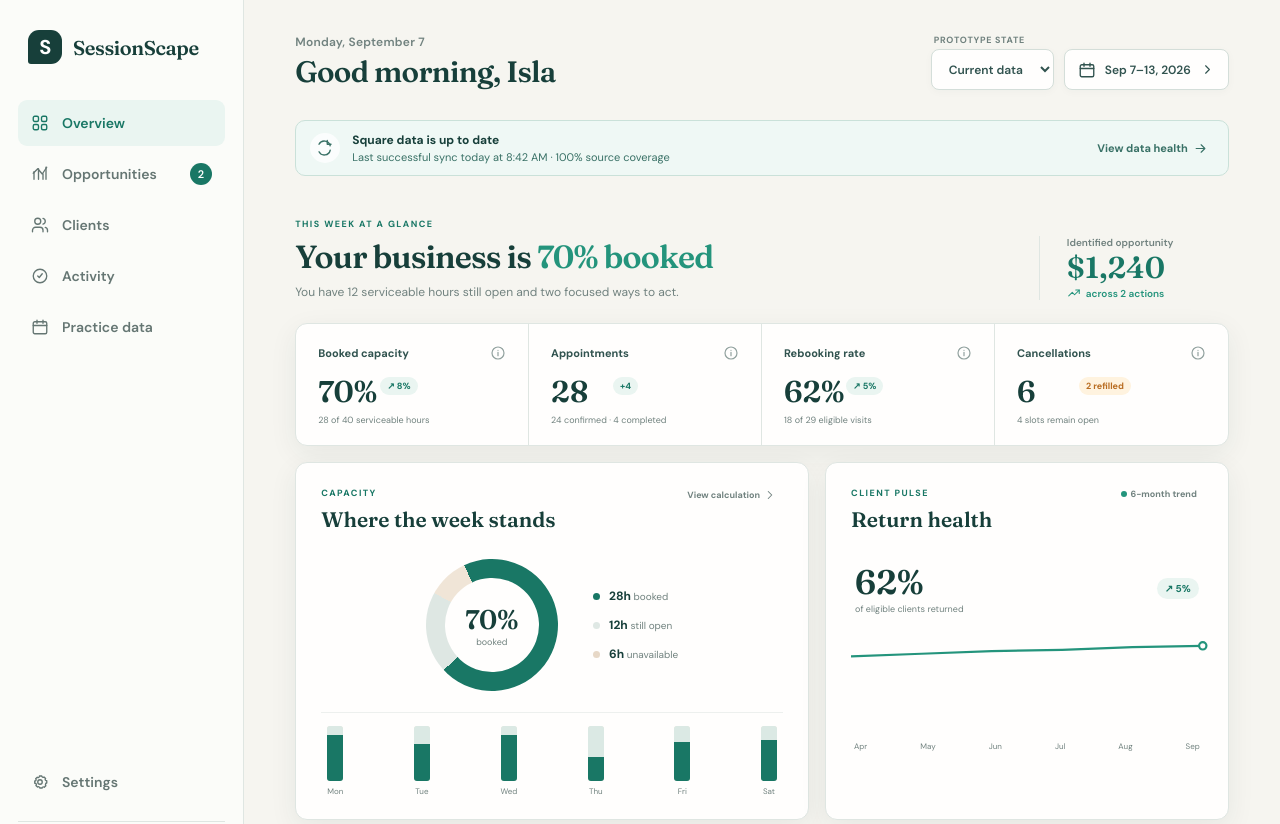
Test case: copies sample records into a separately labelled editable workspace
Click the link "Practice data": coordinates (92, 327) [31, 318, 153, 336]
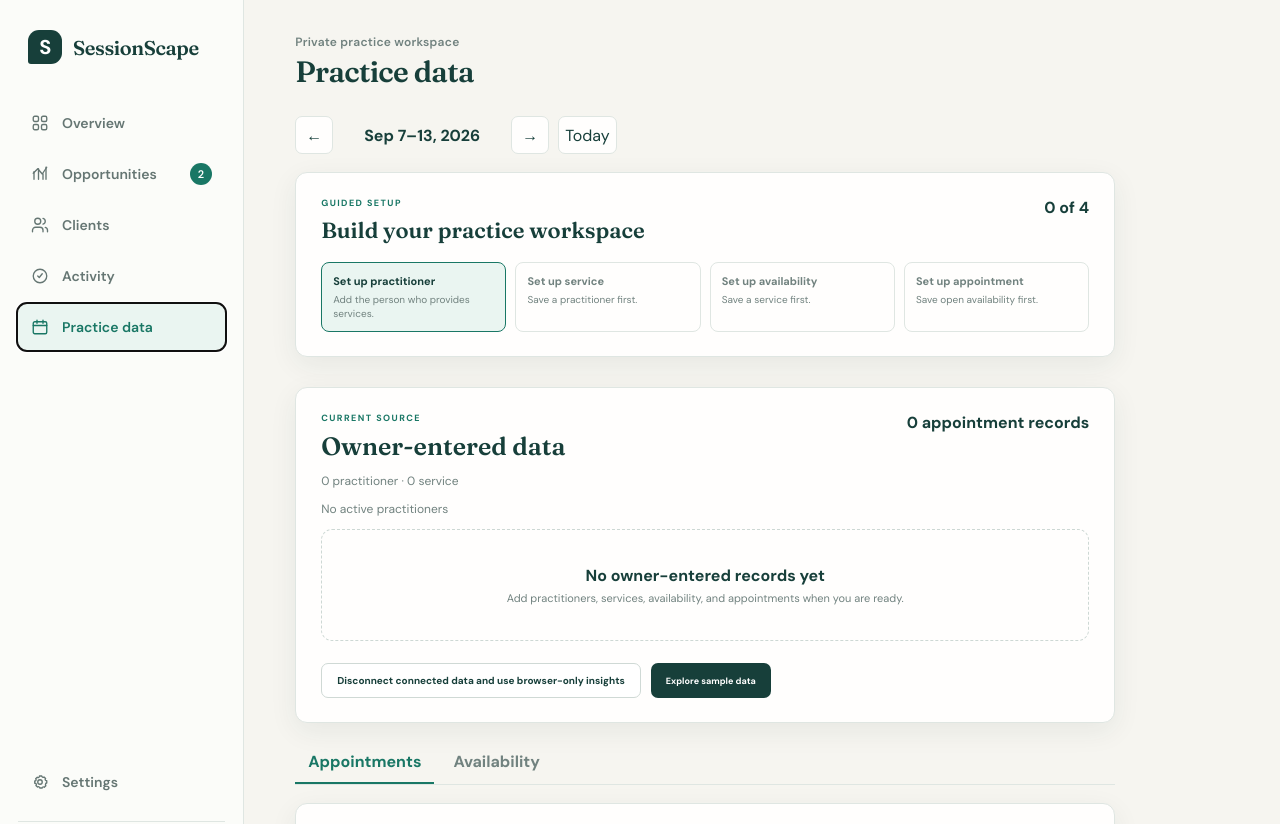
Click the button "Explore sample data": coordinates (711, 680) [651, 663, 771, 698]
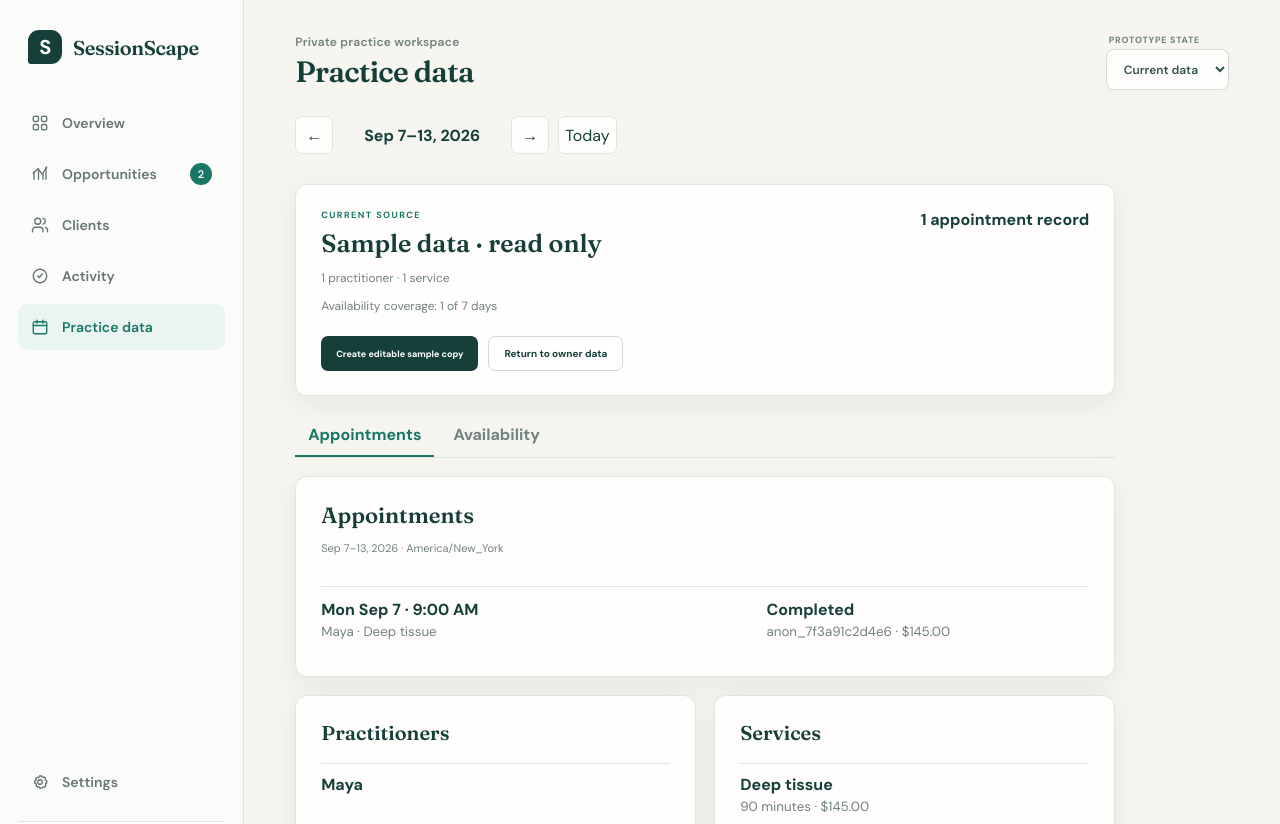
Click the button "Create editable sample copy": coordinates (400, 354) [321, 336, 478, 371]
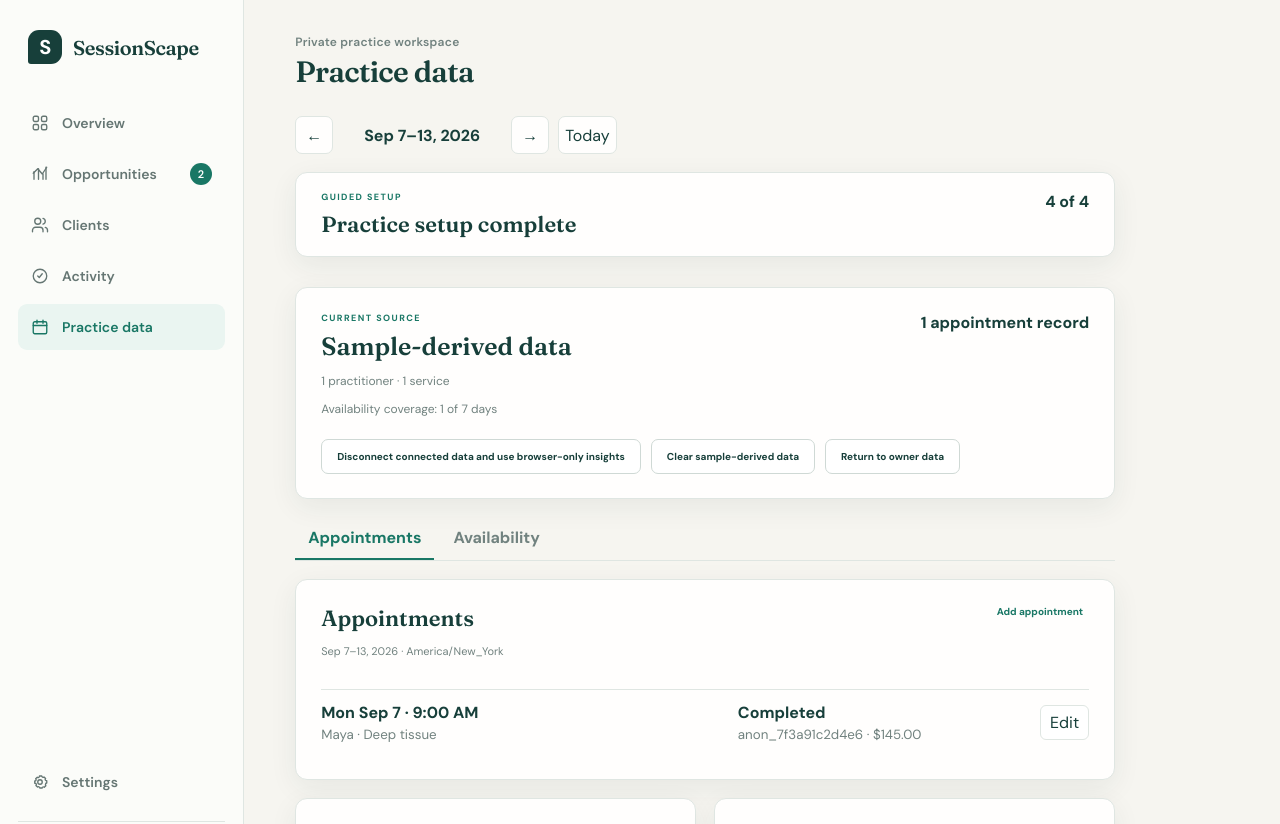
Check: the text "1 appointment record" is shown, box [921, 312, 1089, 333]
Check: the heading "Sample-derived data" is shown, box [321, 331, 572, 361]
Click the button "Return to owner data": coordinates (893, 456) [825, 439, 960, 474]
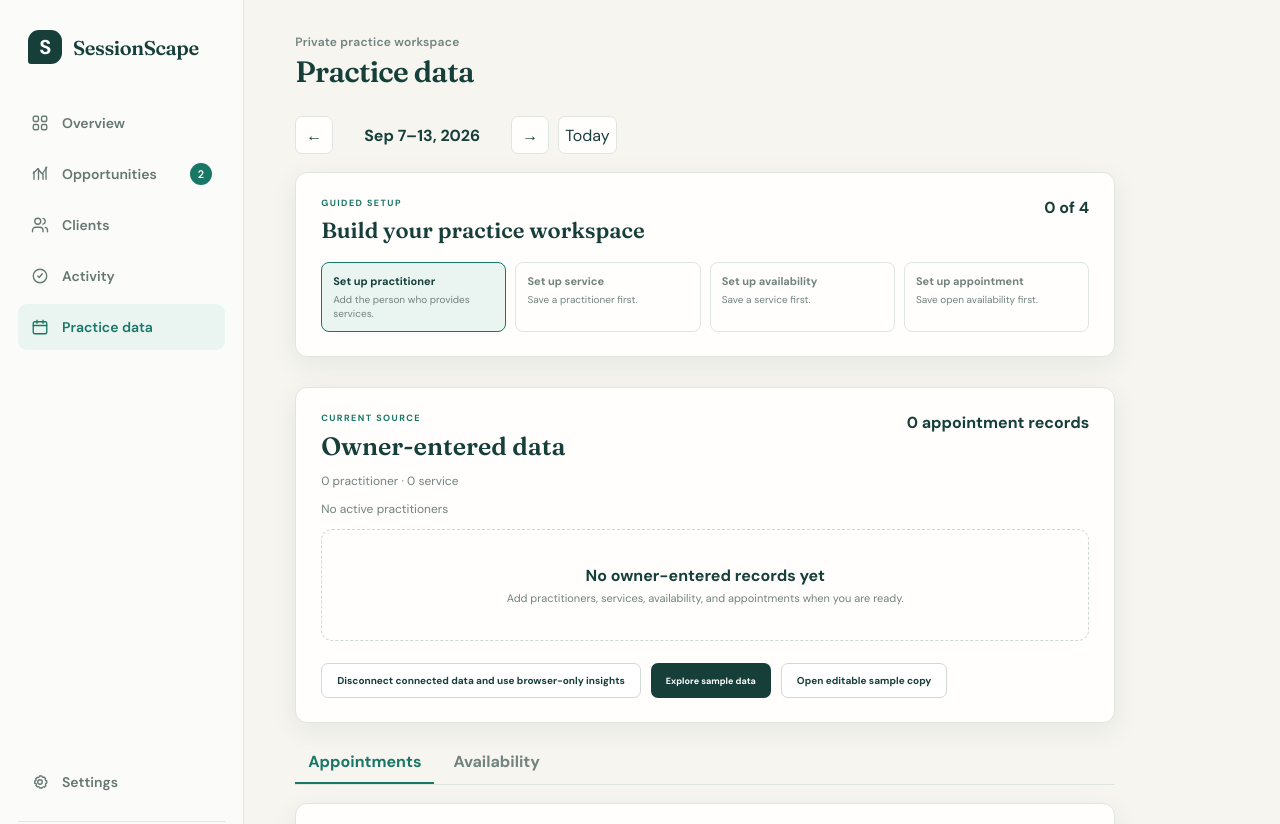
Check: the heading "Owner-entered data" is shown, box [321, 431, 566, 461]
Check: the text "No owner-entered records yet" is shown, box [586, 565, 825, 586]
